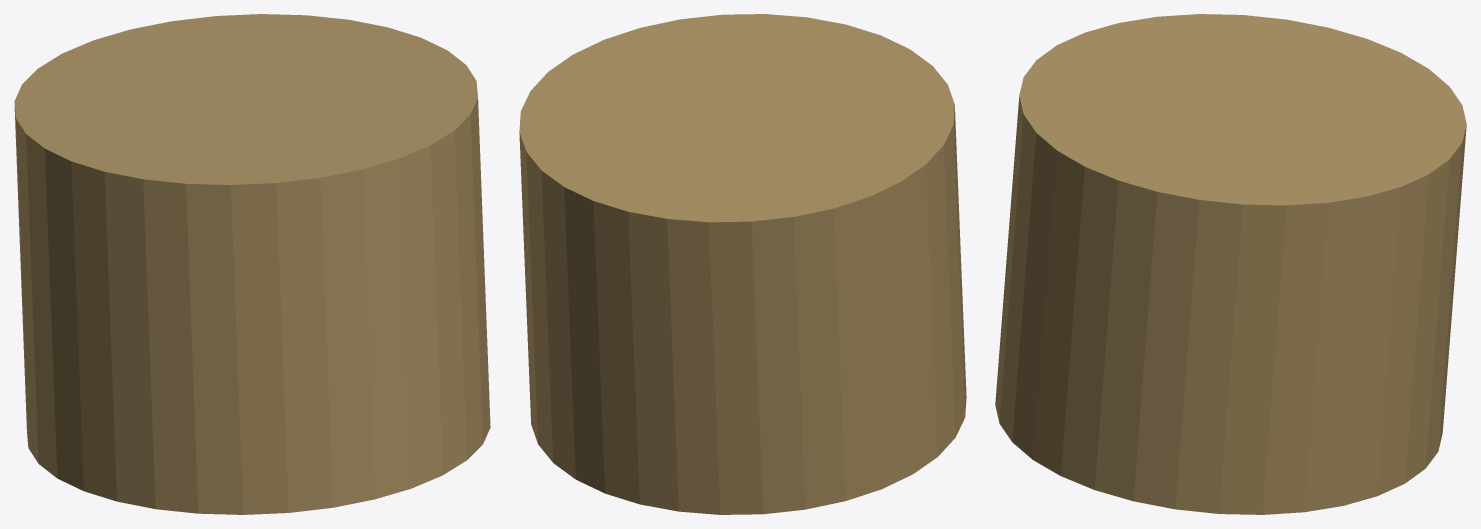
Rendered from left_shoulder_y_link_visual_2.obj.full.glb.
3 views of the same model, side by side, from view 1: azimuth 30°, elevation 25°; view 2: azimuth 150°, elevation 25°; view 3: azimuth 270°, elevation 25° (orthographic). The views are drawn at different scales.
Bounding box in the file's own units: 0.0716 × 0.0595 × 0.0753.
